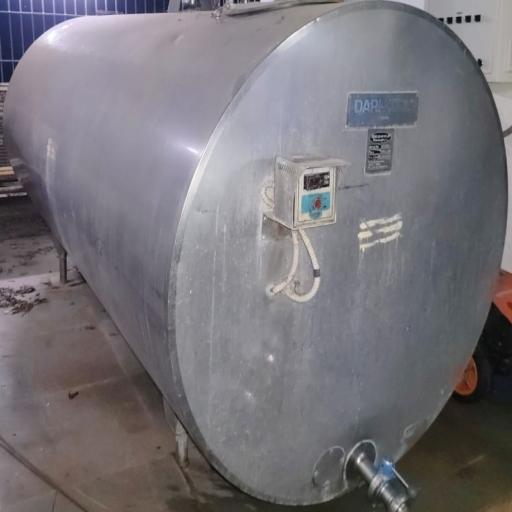silo: (1, 2, 510, 508)
